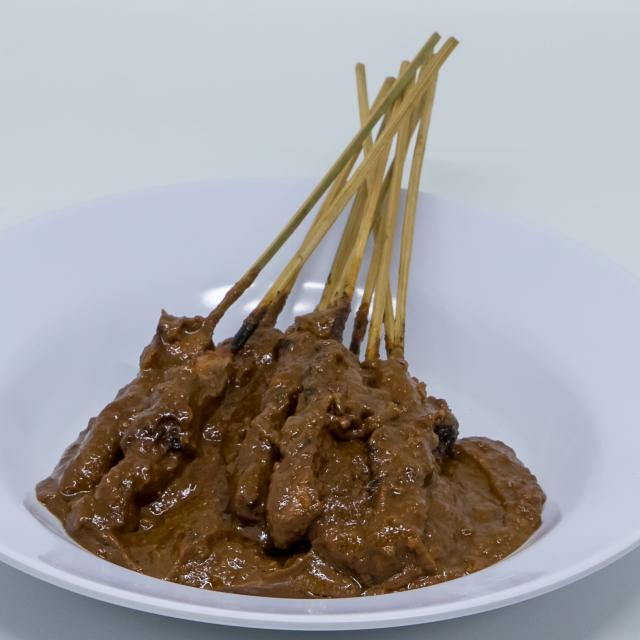Sate-Ayam: (33, 282, 470, 598)
